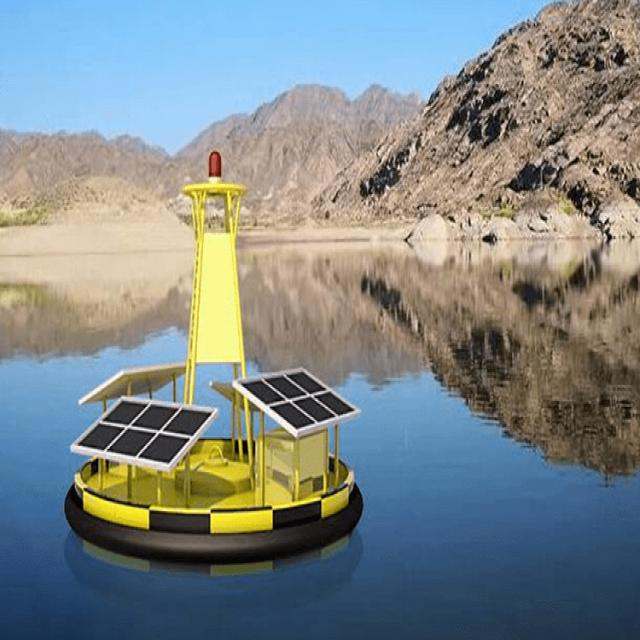buoy: (69, 152, 359, 567)
